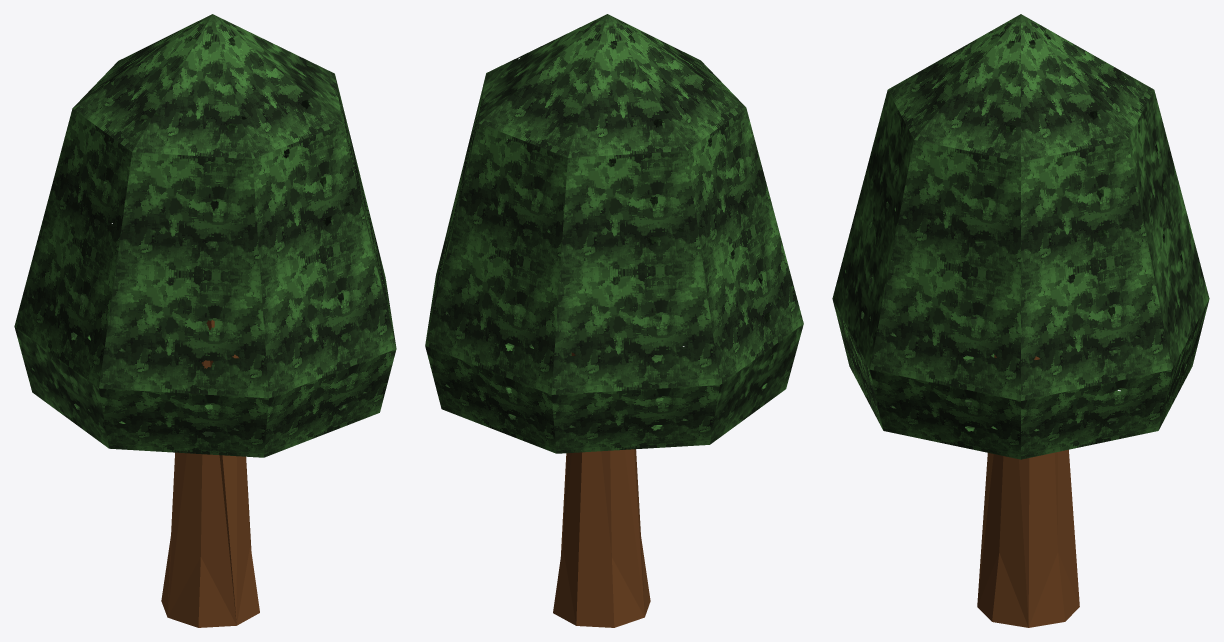
Rendered from tree1.obj.
3 renders of one model, left to right at view 1: azimuth 30°, elevation 25°; view 2: azimuth 150°, elevation 25°; view 3: azimuth 270°, elevation 25°, orthographic.
Parts seen in each view (by area): view 1: Object.2, Object.1; view 2: Object.2, Object.1; view 3: Object.2, Object.1.
Boxes of the visible parts, x1,y1,x2,y2 form: Object.2: (14,14,396,457); Object.1: (161,320,259,627); Object.2: (425,14,803,453); Object.1: (553,352,650,627); Object.2: (832,14,1209,459); Object.1: (977,355,1079,627).
Bounding box in the file's own units: 2.31 × 4 × 2.31.
